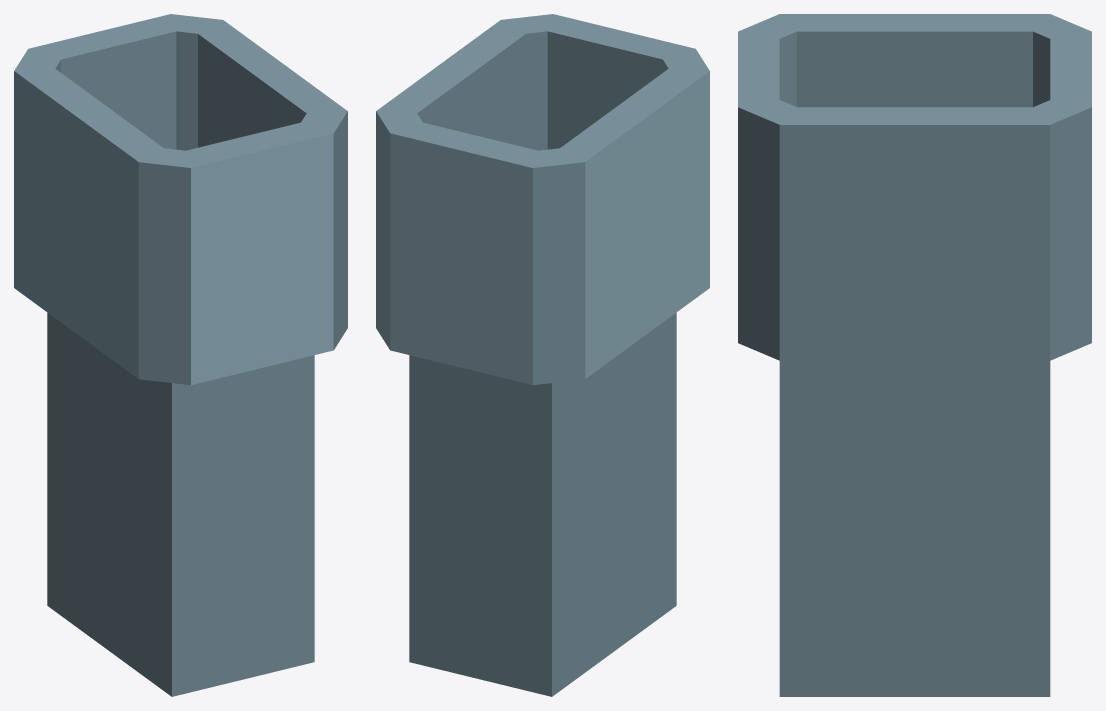
Rendered from chimneyTop.fbx.
The picture shows the model from 3 angles, left to right: view 1: azimuth 30°, elevation 25°; view 2: azimuth 150°, elevation 25°; view 3: azimuth 270°, elevation 25°; orthographic projection. The views are drawn at different scales.
Parts seen in each view (by area): view 1: chimneyTop; view 2: chimneyTop; view 3: chimneyTop.
Part boxes in pixels (bbox=[...]): chimneyTop: bbox=[14, 14, 347, 696]; chimneyTop: bbox=[376, 14, 709, 696]; chimneyTop: bbox=[738, 14, 1091, 696].
Bounding box in the file's own units: 2.52 × 6.25 × 3.4.
